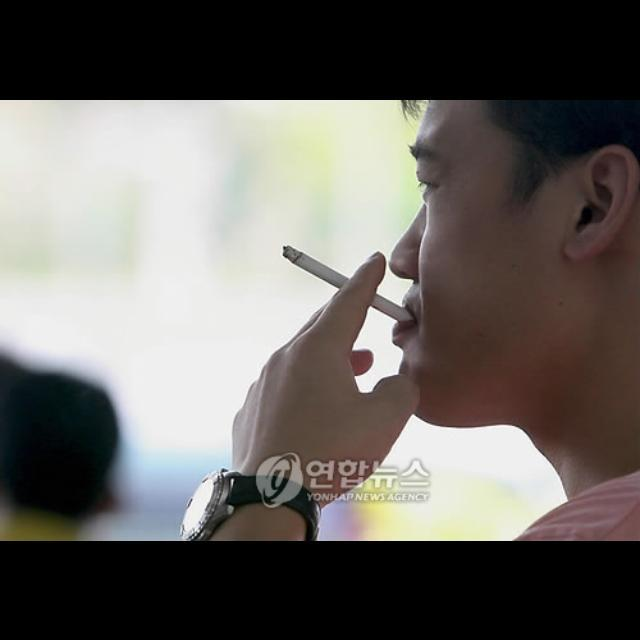rokok: (277, 234, 411, 330)
